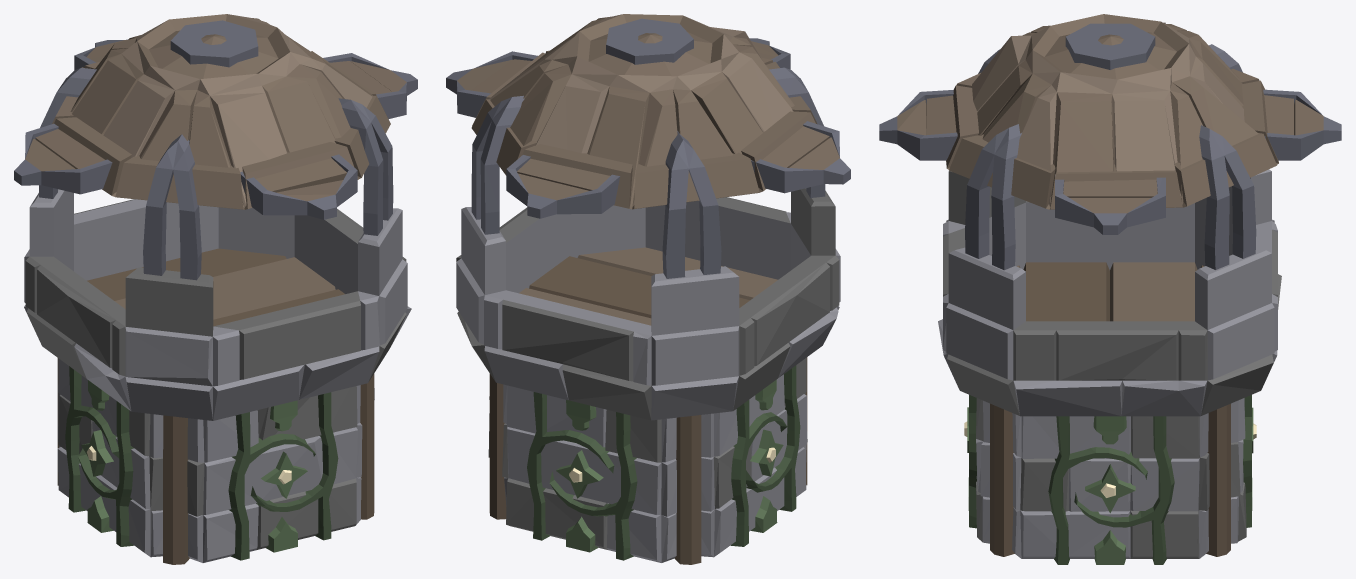
File: _TOWER_5_UP_01.fbx
3 renders of one model, left to right at view 1: azimuth 30°, elevation 25°; view 2: azimuth 150°, elevation 25°; view 3: azimuth 270°, elevation 25°, orthographic.
Visible parts, largest first — view 1: TOWER_5_UP_01; view 2: TOWER_5_UP_01; view 3: TOWER_5_UP_01.
Boxes of the visible parts, x1=… form: TOWER_5_UP_01: x1=14, y1=14, x2=417, y2=564; TOWER_5_UP_01: x1=446, y1=14, x2=850, y2=564; TOWER_5_UP_01: x1=879, y1=14, x2=1341, y2=564.
Size of the model in its own units: 942 by 1051 by 942.
